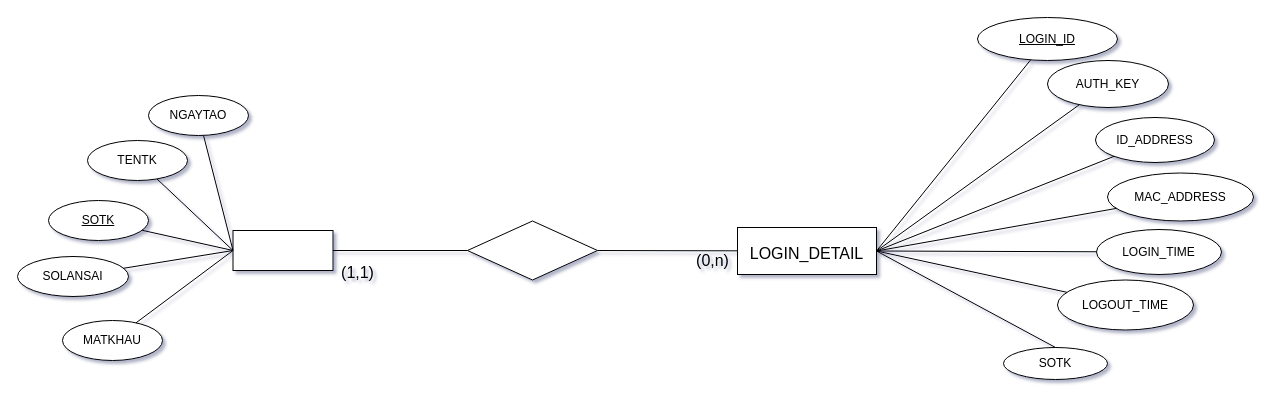
The diagram is 1277 pixels wide and 403 high, and some of its shapes have lost their labels. Each missing label, with the centre of its shape:
"Có" belongs at (x=532, y=250).
"TAIKHOAN" belongs at (x=282, y=250).
